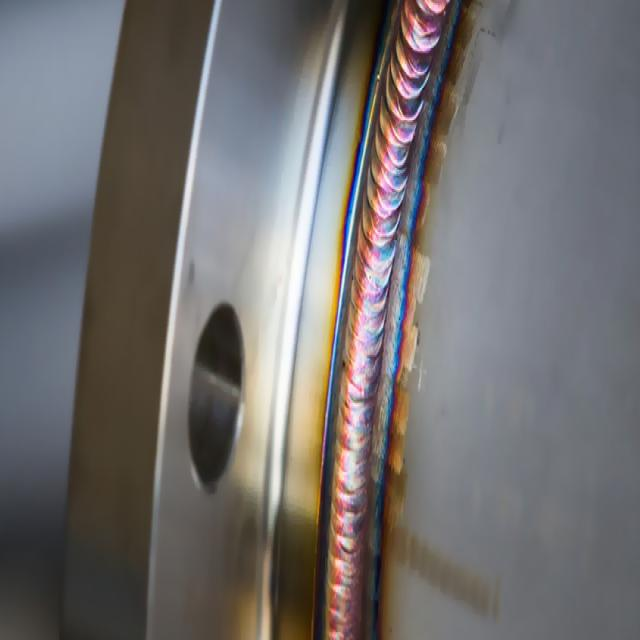Dry Waste: (311, 0, 458, 638)
